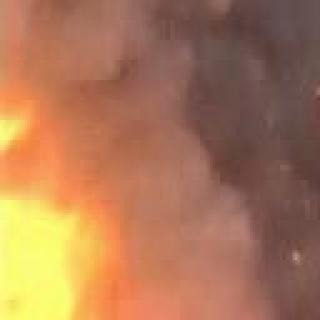fire: (1, 42, 132, 320)
